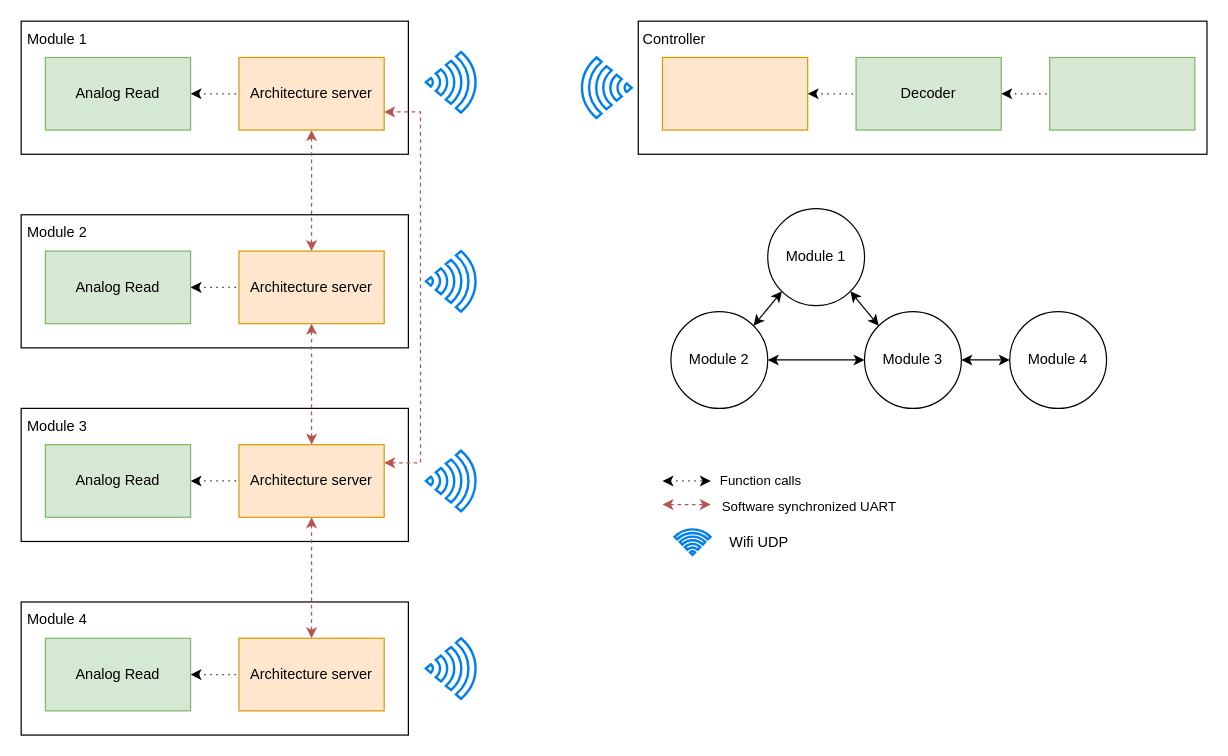
Some shapes in this 1228 by 756 pixel diagram are drawn without their labels. The shapes that lost their labels are listed below. From the top down, each one's centre as x and y in pixels, then its label:
At point (734, 93): "Architecture client".
At point (1121, 93): "Visualization".
